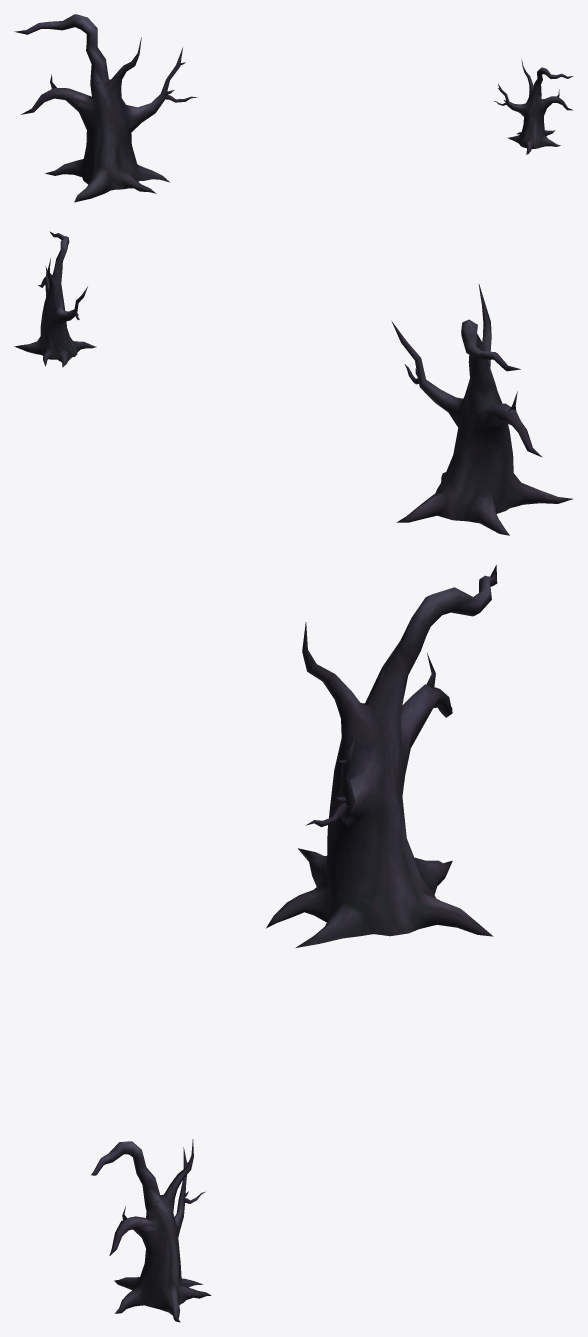
Rendered from Area07_7.fbx.
3 views of the same model, one above another, from view 1: azimuth 30°, elevation 25°; view 2: azimuth 150°, elevation 25°; view 3: azimuth 270°, elevation 25° (orthographic). The views are drawn at different scales.
Parts seen in each view (by area): view 1: Area07_7; view 2: Area07_7; view 3: Area07_7.
Boxes of the visible parts, x1,y1,x2,y2 form: Area07_7: [14, 14, 573, 202]; Area07_7: [14, 231, 572, 535]; Area07_7: [91, 565, 497, 1322].
Bounding box in the file's own units: 4037 × 1391 × 1519.
